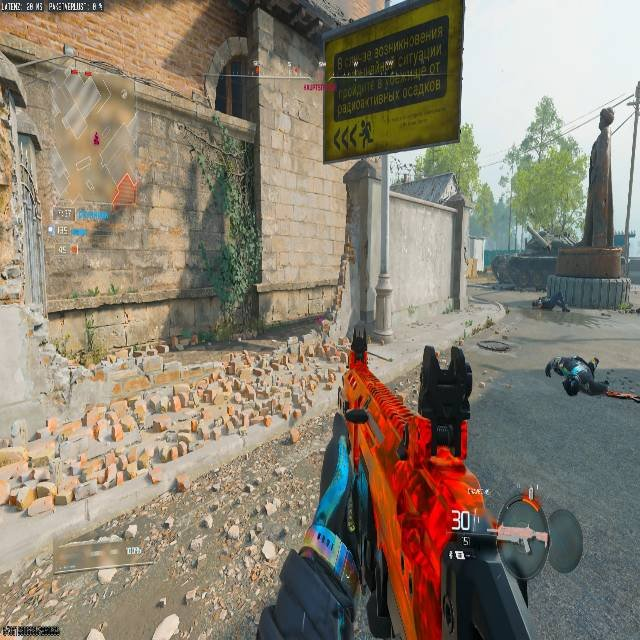head: (562, 376, 581, 396), (544, 360, 557, 378)
player: (543, 352, 598, 398)
